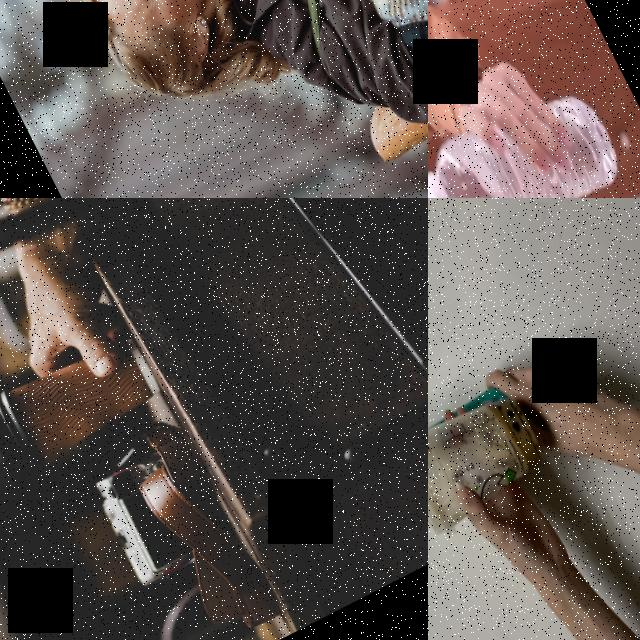bottle: (428, 69, 624, 198)
cup: (0, 326, 168, 483), (428, 377, 559, 543)
